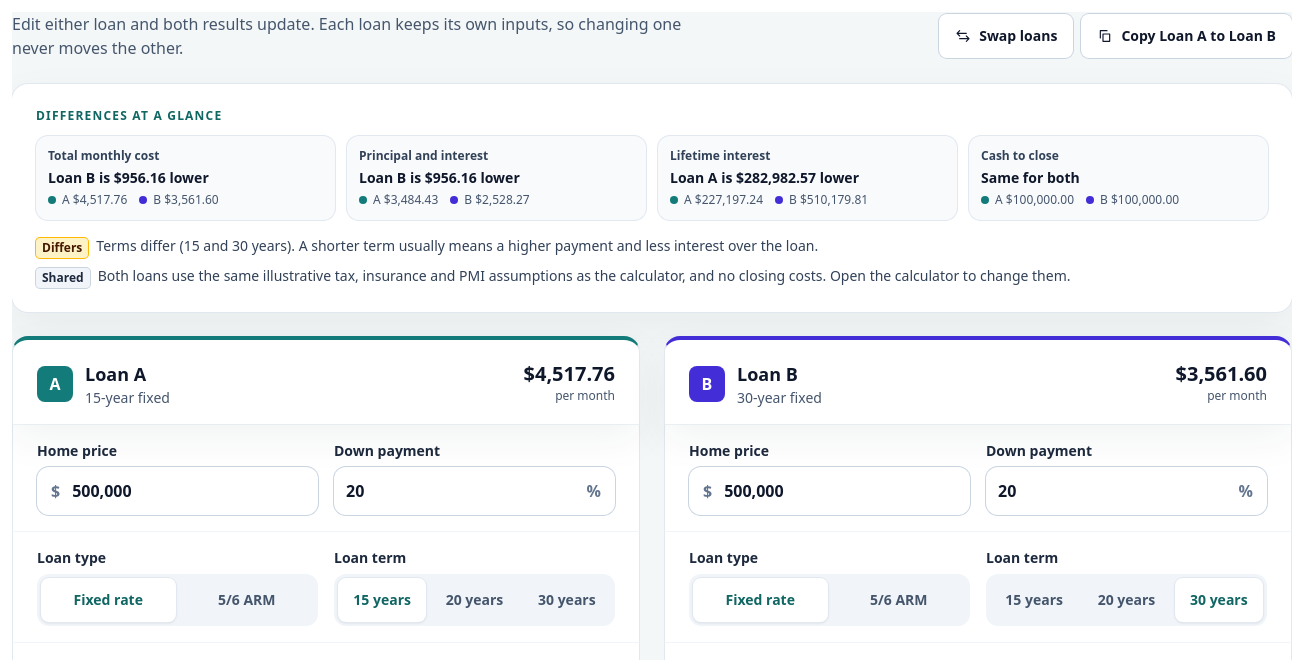
CompareView › copies Loan A into Loan B
What coordinates should you click on to do the following:
click the button "Copy Loan A to Loan B"
I would click on:
 (1187, 36)
Its box is [1081,14,1292,58].
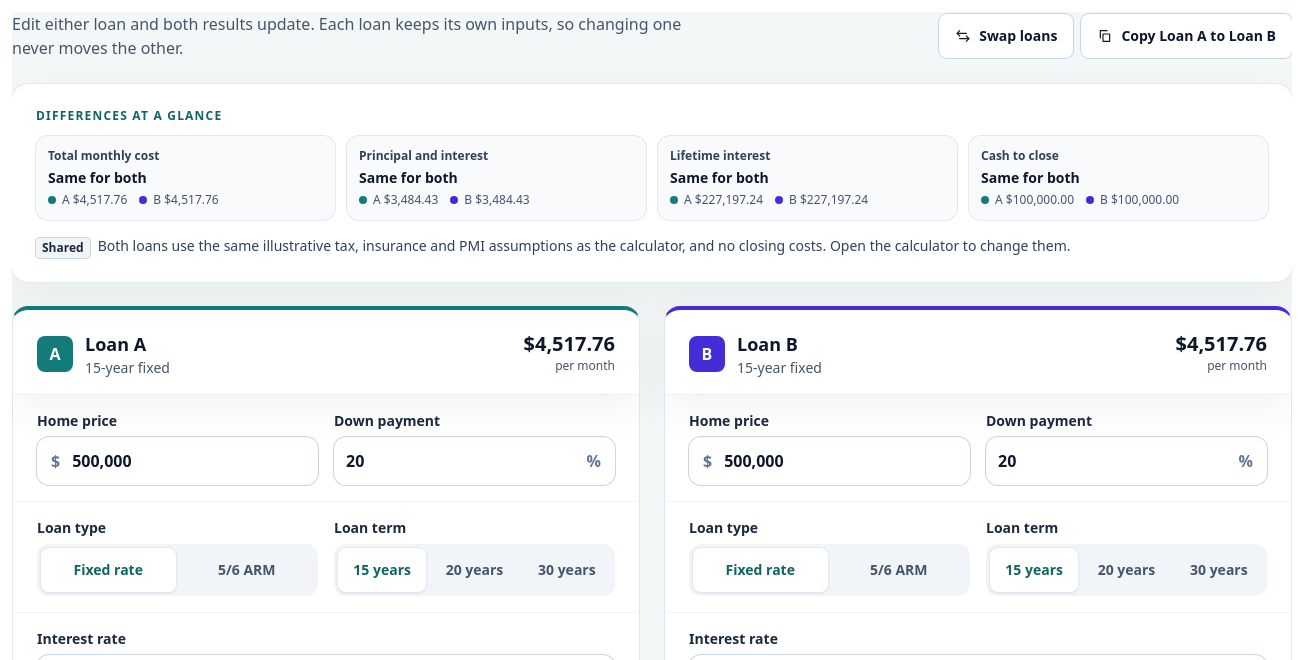
expect the 1st text "Same for both" is shown: met, box [48,168,147,187]
